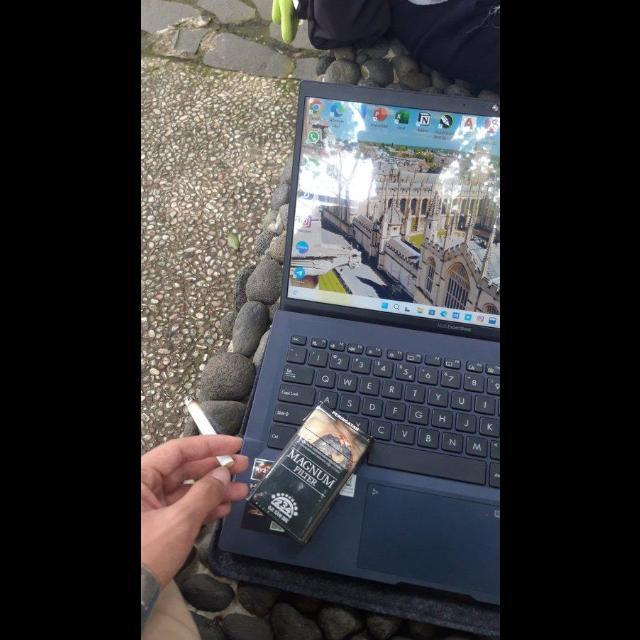rokok: (174, 389, 238, 475)
